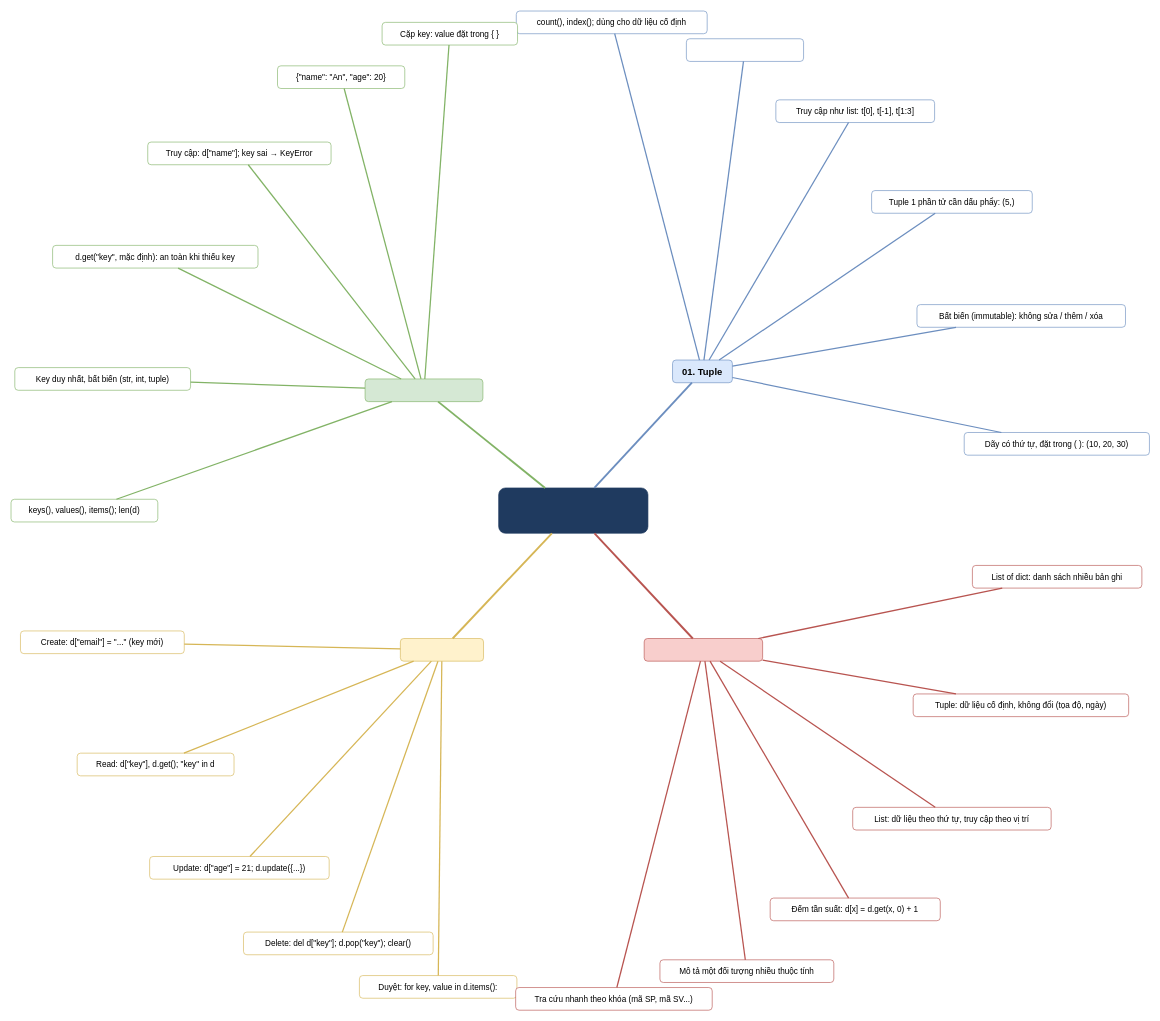
This 1160x1021 diagram has some shape labels left out. The shapes that lost their labels are listed below. From the top down, each one's centre as x and y in pixels, then its label:
the point at 745,49: Unpacking: x, y = (3, 4)
the point at 423,390: 02. Dictionary cơ bản
the point at 573,510: Python Session 11 Tuple & Dict
the point at 442,649: 03. CRUD dict
the point at 703,649: 04. Khi nào dùng dict
